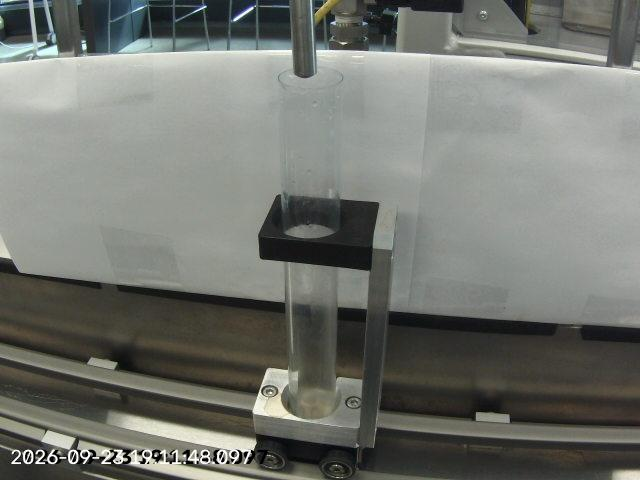vial: (276, 67, 346, 423)
